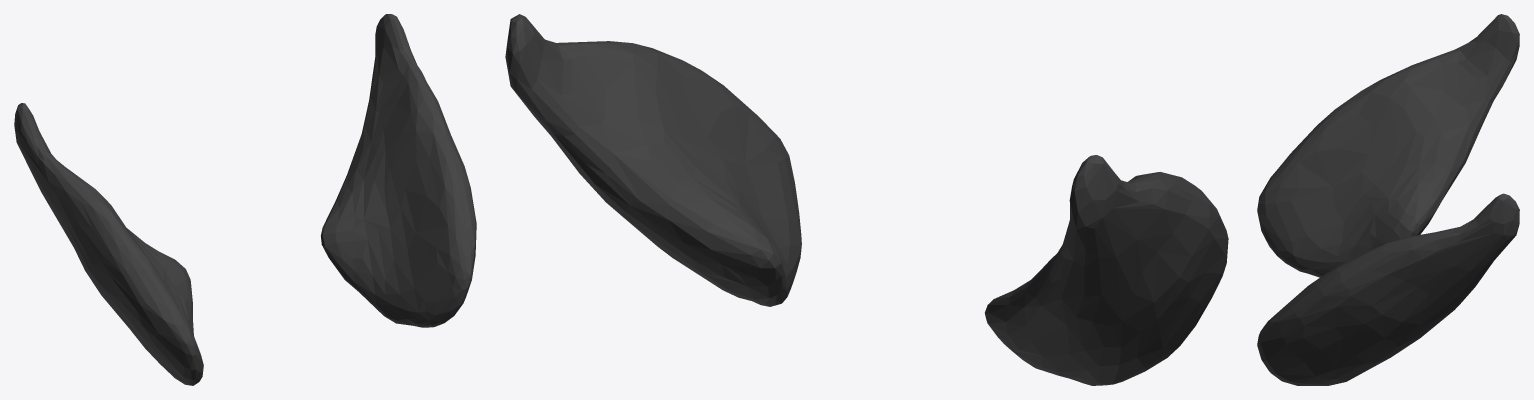
Rendered from m_gluteus_medius.glb.
3 views of the same model, side by side, from view 1: azimuth 30°, elevation 25°; view 2: azimuth 150°, elevation 25°; view 3: azimuth 270°, elevation 25° (orthographic). The views are drawn at different scales.
Visible parts, largest first — view 1: m_gluteus_medius; view 2: m_gluteus_medius; view 3: m_gluteus_medius.
Part boxes in pixels (box(x1,y1,x2,y2)): m_gluteus_medius: box(14, 14, 476, 385); m_gluteus_medius: box(505, 14, 1228, 385); m_gluteus_medius: box(1257, 14, 1519, 385).
Bounding box in the file's own units: 0.00502 × 0.00282 × 0.00295.
1 material, 1 textured.
